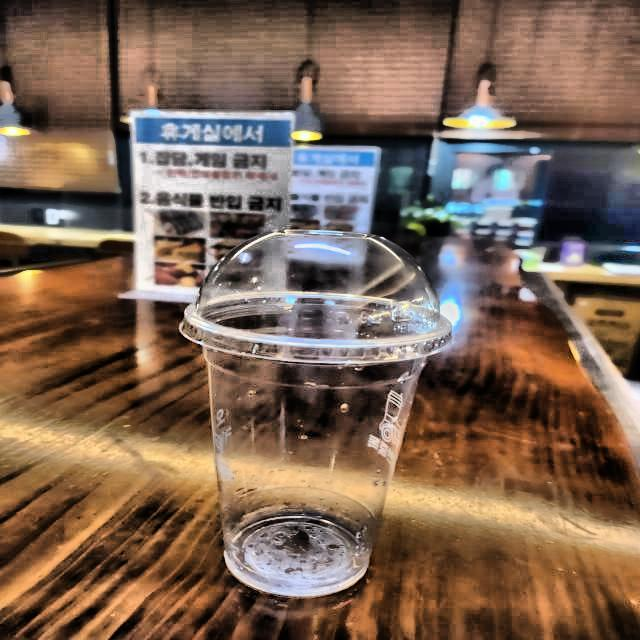plastic cup: (156, 220, 494, 616)
